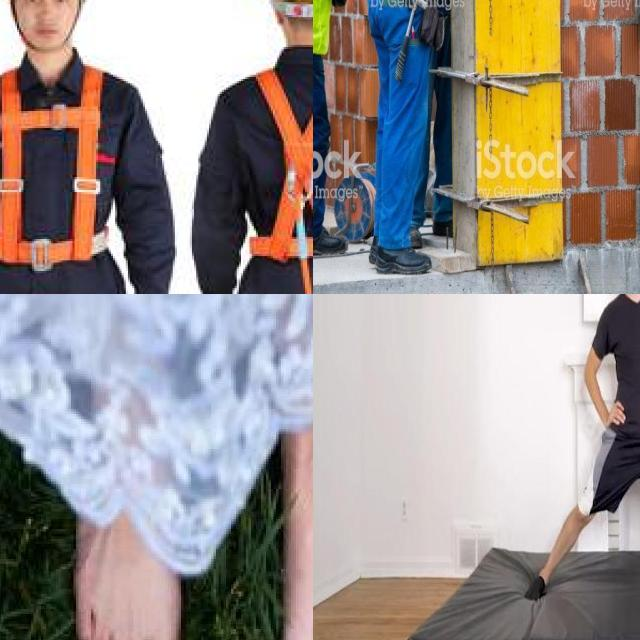Barefoots: (37, 399, 190, 640), (252, 388, 313, 640)
Harness: (0, 64, 121, 271), (243, 64, 313, 269)
hand_noglove: (595, 392, 632, 435)
person: (523, 294, 640, 602), (360, 0, 423, 271), (397, 0, 452, 238), (313, 0, 339, 247)
shoes: (374, 232, 433, 278), (313, 214, 353, 264)
